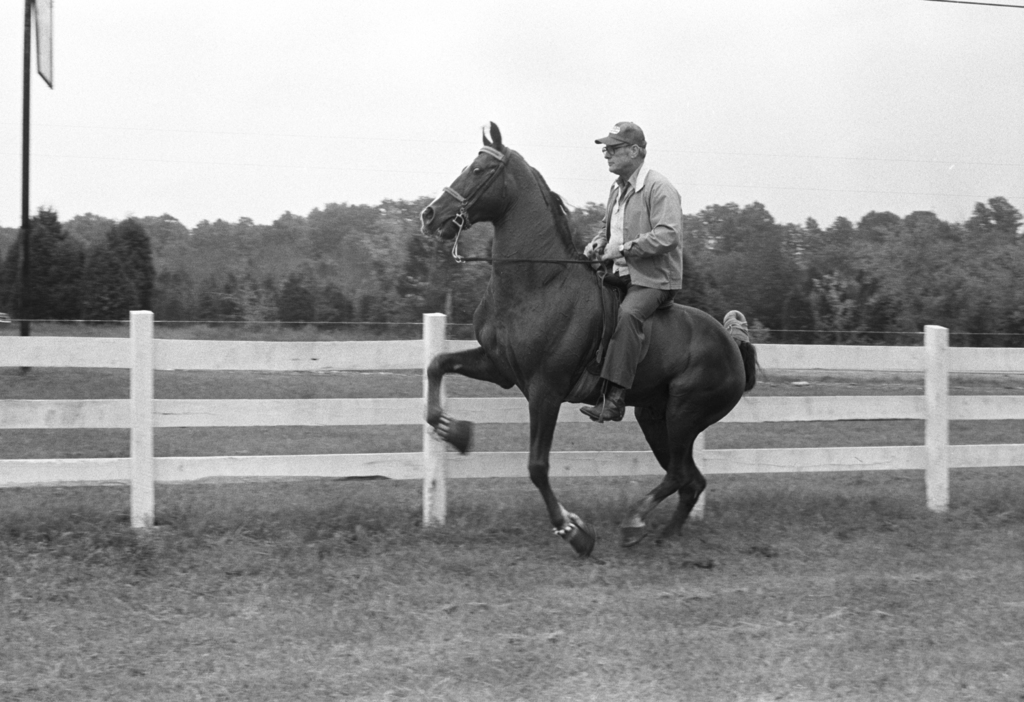Footwear: (583, 398, 624, 425)
